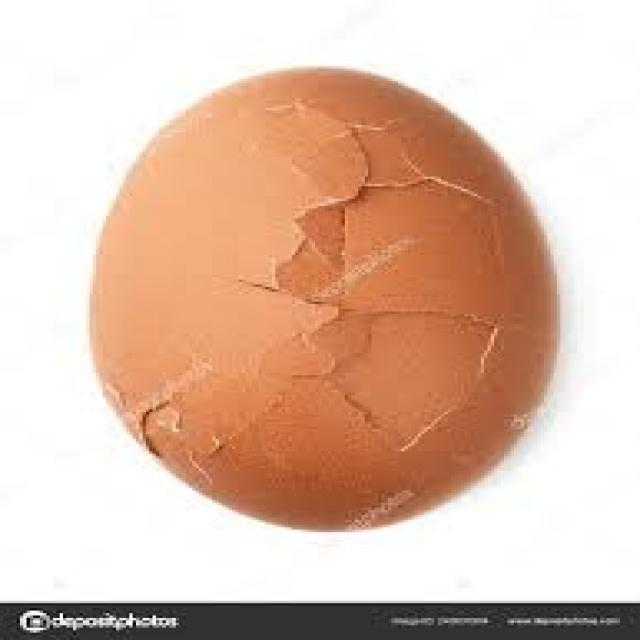biodegradable: (86, 69, 560, 537)
